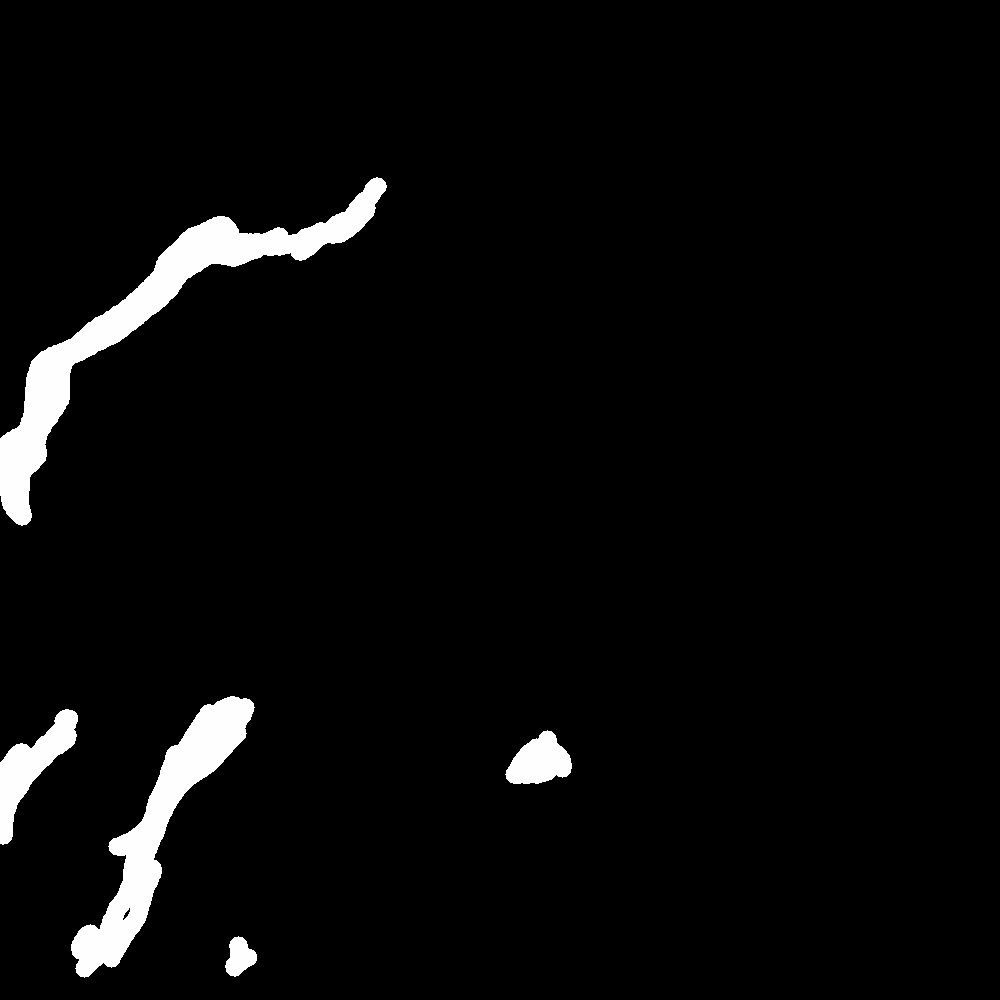illegal: (1, 179, 389, 501), (105, 691, 247, 945), (1, 678, 110, 801), (516, 713, 571, 789)
